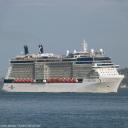cruises: (2, 40, 126, 95)
